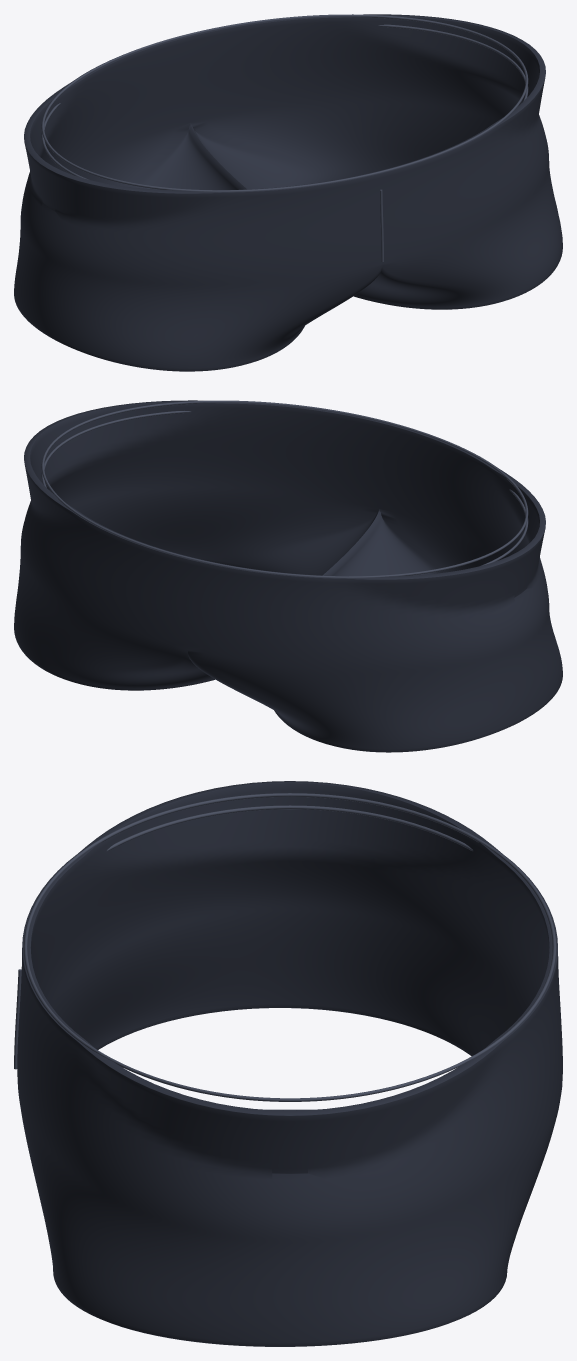
File: Masculine-bottom-shortshorts-bottom.glb
3 views of the same model, one above another, from view 1: azimuth 30°, elevation 25°; view 2: azimuth 150°, elevation 25°; view 3: azimuth 270°, elevation 25° (orthographic). The views are drawn at different scales.
Visible parts, largest first — view 1: Bottom / shortshorts, Bottom / waistband.001 export, Bottom / waistband export; view 2: Bottom / shortshorts, Bottom / waistband.001 export, Bottom / waistband export; view 3: Bottom / shortshorts, Bottom / waistband.001 export, Bottom / waistband export.
Part boxes in pixels (<box>): Bottom / shortshorts: <box>14,14,562,371</box>; Bottom / waistband.001 export: <box>41,14,528,192</box>; Bottom / waistband export: <box>41,24,528,179</box>; Bottom / shortshorts: <box>14,400,562,752</box>; Bottom / waistband.001 export: <box>41,400,528,578</box>; Bottom / waistband export: <box>41,411,528,565</box>; Bottom / shortshorts: <box>17,781,562,1346</box>; Bottom / waistband.001 export: <box>23,793,556,1101</box>; Bottom / waistband export: <box>107,805,473,851</box>.
Bounding box in the file's own units: 0.655 × 0.2141 × 0.4436.
